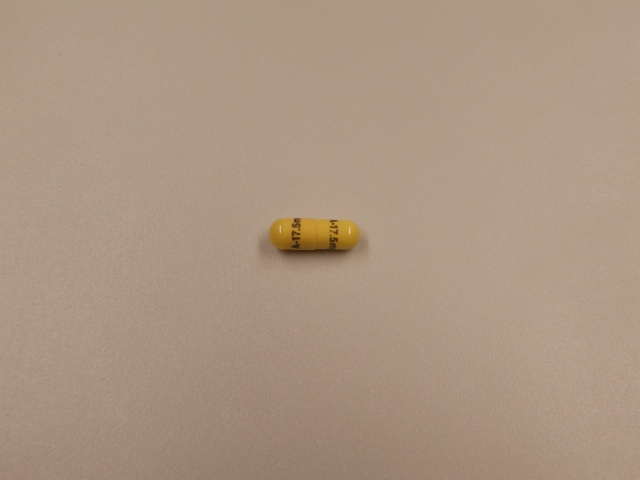capsule: (271, 217, 365, 250)
